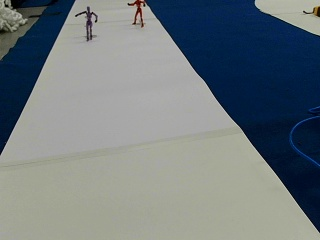pedestrian: (75, 6, 97, 39), (127, 0, 146, 26)
